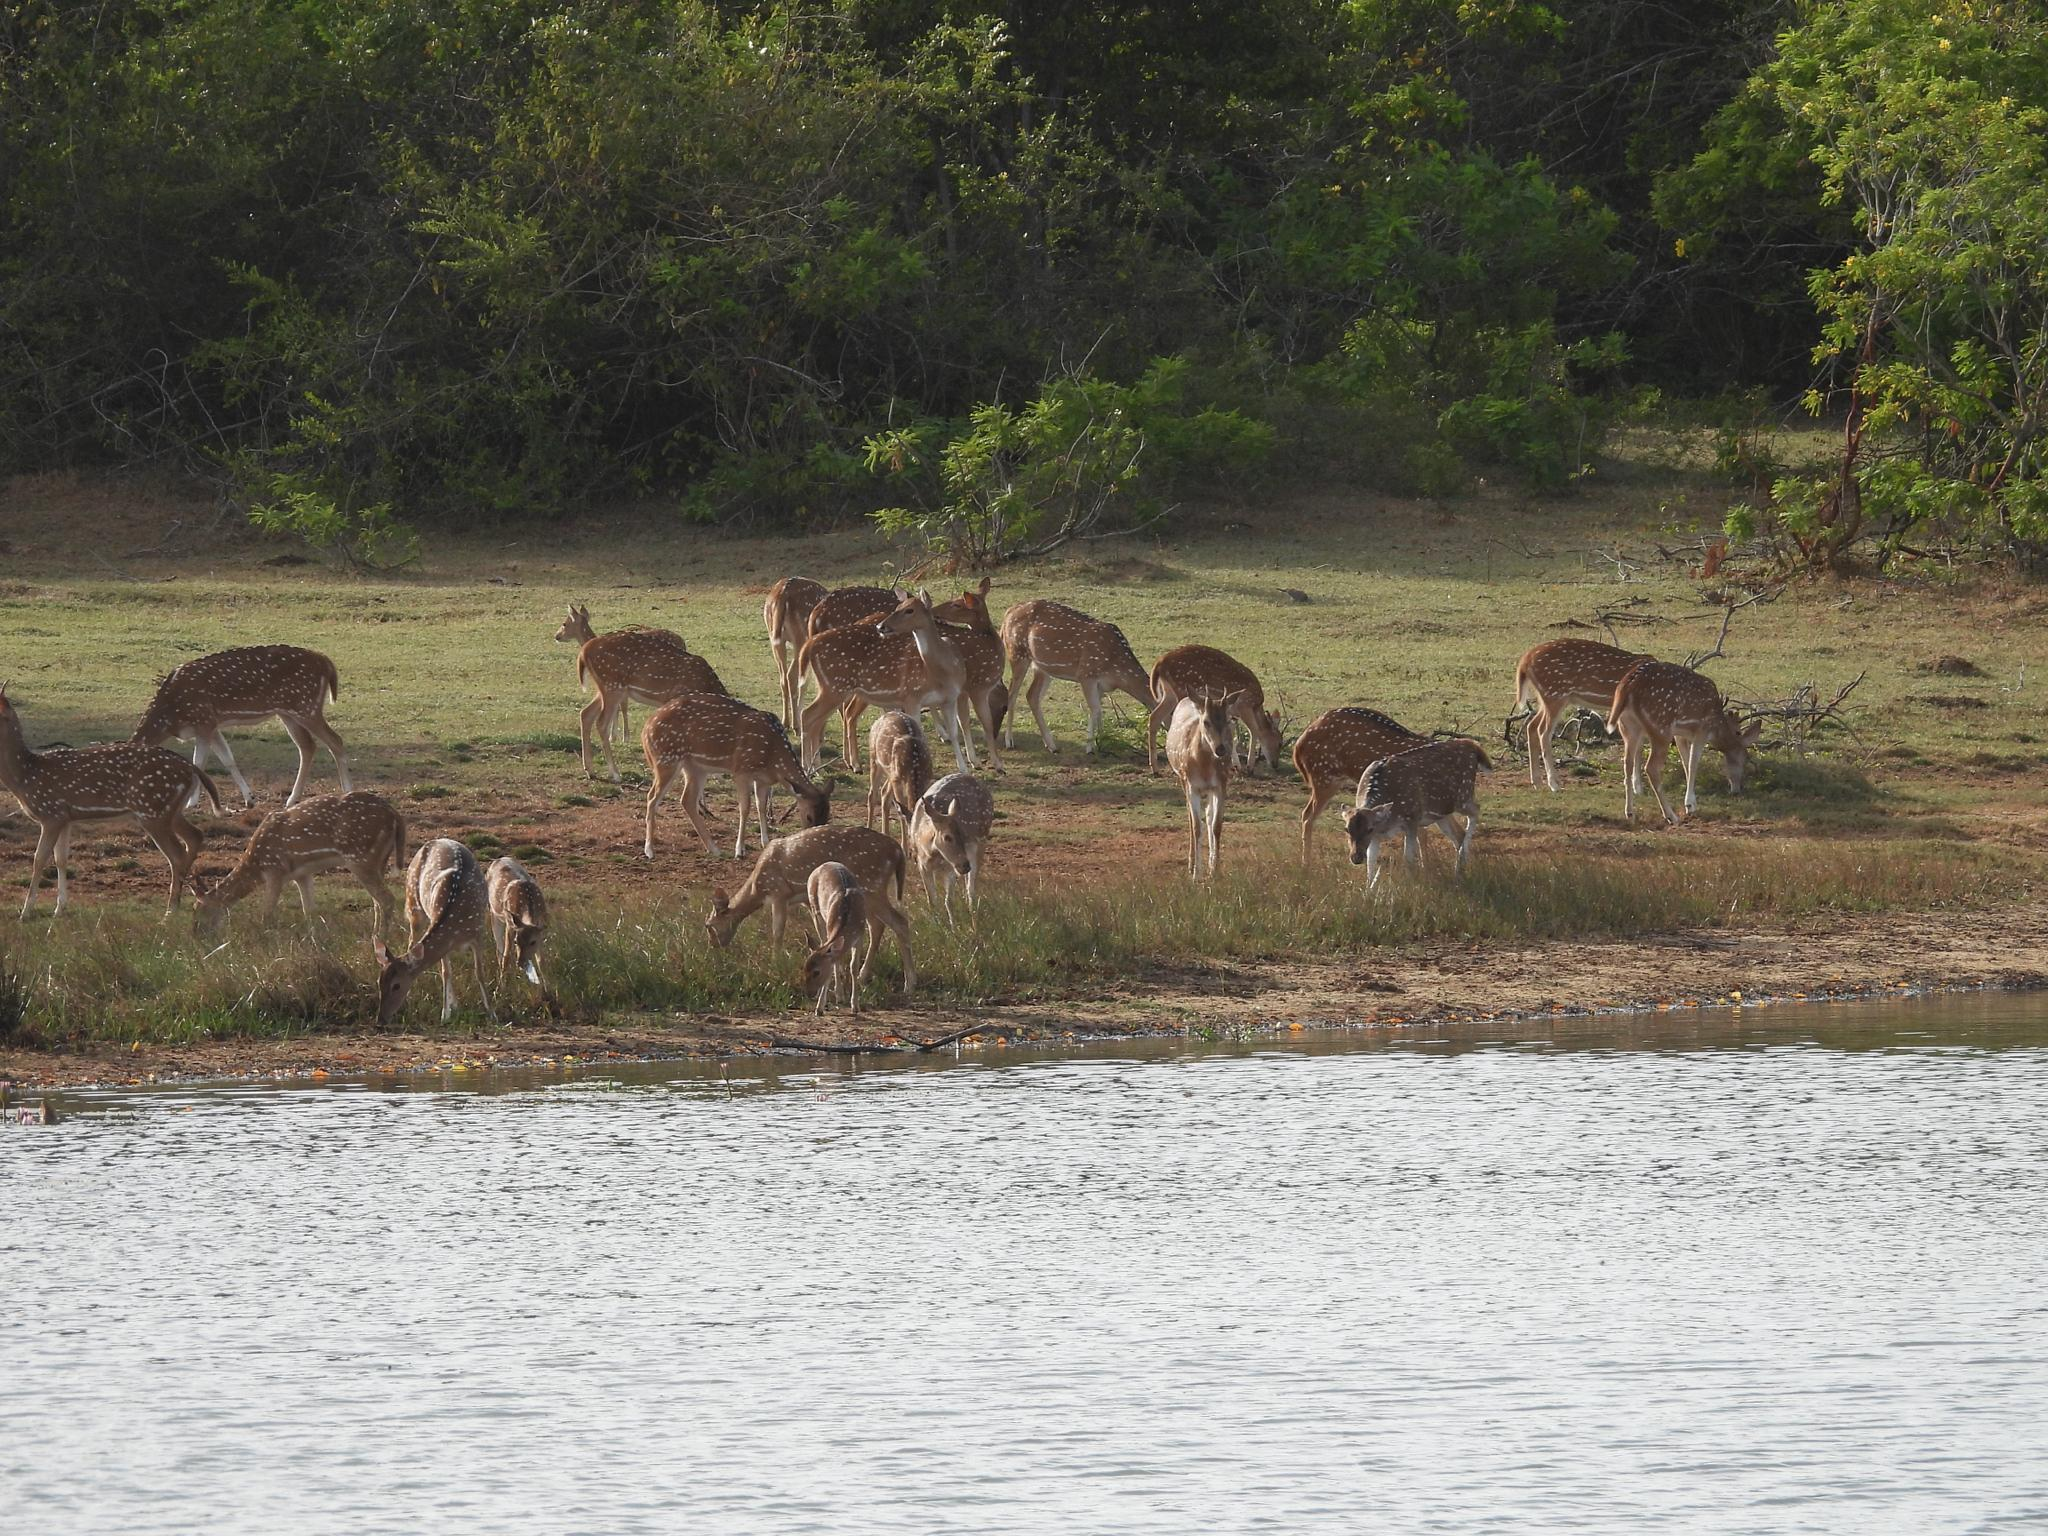Deer: (577, 632, 827, 857), (198, 792, 406, 960), (706, 824, 914, 992), (135, 645, 352, 800), (795, 591, 971, 768), (1609, 662, 1758, 824), (1001, 600, 1155, 753), (1506, 639, 1655, 789), (1347, 739, 1488, 889), (1292, 707, 1430, 857), (379, 839, 487, 1023), (905, 773, 995, 912), (1166, 695, 1229, 878), (803, 862, 871, 1008), (930, 576, 1005, 708), (487, 857, 548, 997), (555, 602, 593, 645)
